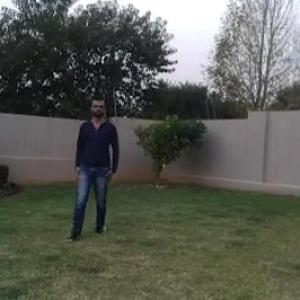follow: (76, 94, 115, 228)
